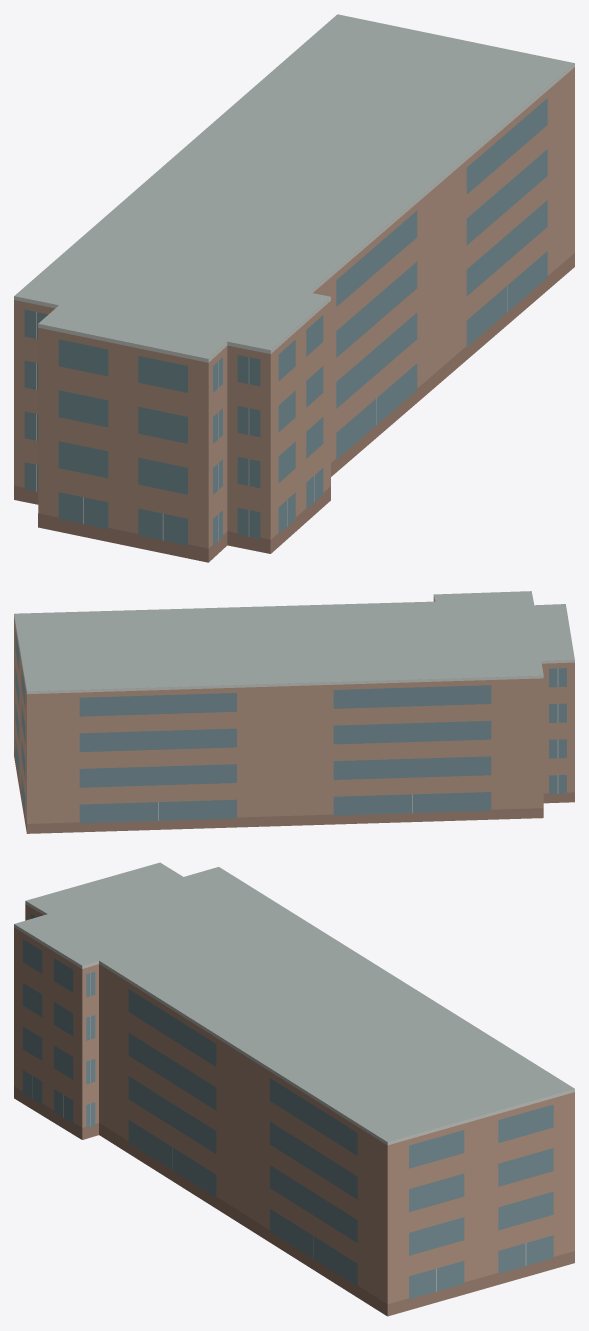
The model's file is survey-upis-32768794.glb.
3 views of the same model, one above another, from view 1: azimuth 30°, elevation 25°; view 2: azimuth 150°, elevation 25°; view 3: azimuth 270°, elevation 25° (orthographic). The views are drawn at different scales.
Parts seen in each view (by area): view 1: survey-upis-32768794.tmp; view 2: survey-upis-32768794.tmp; view 3: survey-upis-32768794.tmp.
Boxes of the visible parts, x1,y1,x2,y2 form: survey-upis-32768794.tmp: (14, 14, 574, 562); survey-upis-32768794.tmp: (14, 591, 574, 833); survey-upis-32768794.tmp: (14, 862, 574, 1316).
Bounding box in the file's own units: 44.21 × 12.85 × 37.47.
